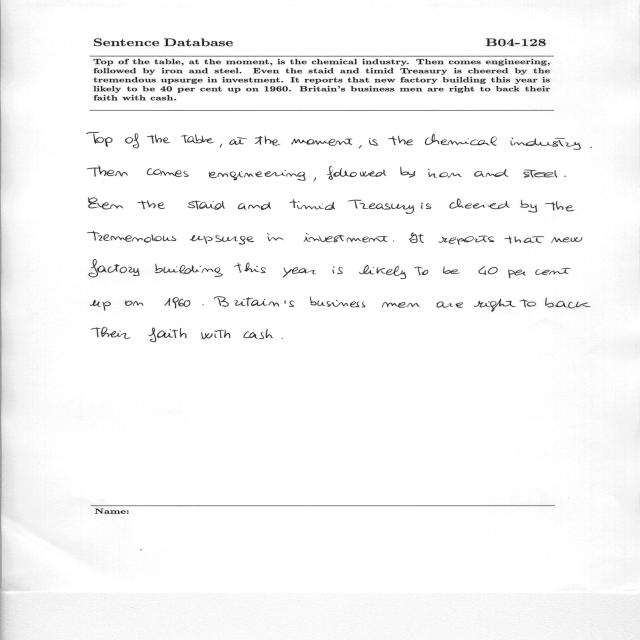word: (88, 231, 177, 243), (209, 170, 306, 181), (348, 200, 414, 214), (511, 137, 581, 150), (89, 260, 139, 278), (155, 264, 223, 277), (214, 296, 294, 307), (425, 134, 497, 146), (327, 166, 386, 180), (304, 233, 388, 242), (449, 199, 510, 210), (359, 265, 406, 279), (310, 297, 365, 308), (190, 235, 254, 244), (474, 299, 516, 312), (149, 328, 187, 342), (290, 199, 335, 210), (439, 236, 494, 245), (546, 298, 591, 309), (92, 327, 131, 339), (87, 166, 128, 177), (292, 139, 353, 146), (89, 198, 123, 210), (87, 132, 113, 147), (147, 168, 189, 177), (188, 200, 225, 210), (283, 267, 316, 277), (504, 236, 544, 244), (234, 263, 266, 273), (428, 169, 462, 178), (181, 135, 214, 144), (545, 201, 574, 211), (201, 330, 230, 340), (244, 329, 273, 339), (164, 297, 190, 308), (474, 169, 509, 177), (524, 170, 558, 178), (238, 202, 271, 210), (255, 136, 281, 146), (137, 200, 165, 209), (535, 268, 571, 275), (382, 302, 420, 308), (388, 136, 413, 145), (520, 200, 537, 213), (91, 300, 111, 311), (125, 134, 139, 149), (147, 135, 170, 144), (436, 301, 463, 308), (551, 237, 582, 243), (478, 266, 498, 275), (401, 167, 416, 178), (409, 232, 424, 243), (229, 137, 247, 145), (508, 270, 526, 278), (520, 299, 536, 308), (267, 233, 284, 241), (443, 267, 460, 274), (415, 267, 429, 275), (125, 300, 143, 306), (333, 266, 343, 274), (369, 138, 378, 146), (421, 203, 431, 209), (313, 177, 316, 182), (359, 145, 362, 149), (220, 143, 222, 148), (590, 147, 592, 148), (564, 176, 566, 177), (202, 305, 204, 306), (393, 241, 394, 242), (282, 338, 283, 339)
